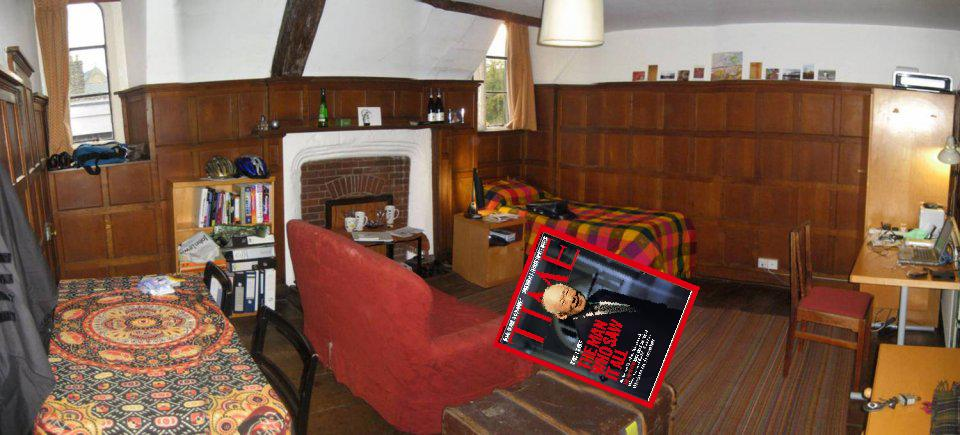times: (491, 219, 700, 409)
